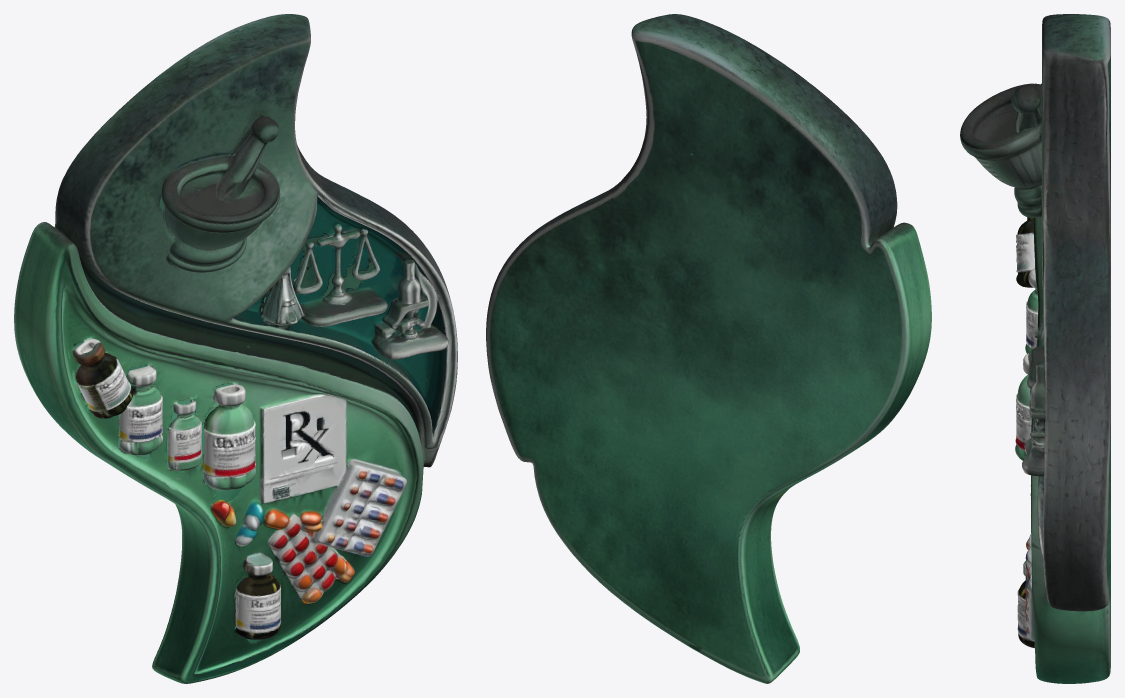
The model's file is opt_The_Yin_Yang_of_Medic_0506235604.glb.
3 views of the same model, side by side, from view 1: azimuth 30°, elevation 25°; view 2: azimuth 150°, elevation 25°; view 3: azimuth 270°, elevation 25° (orthographic). The views are drawn at different scales.
Size of the model in its own units: 1.36 by 1.9 by 0.3865.
1 material, 1 textured.
